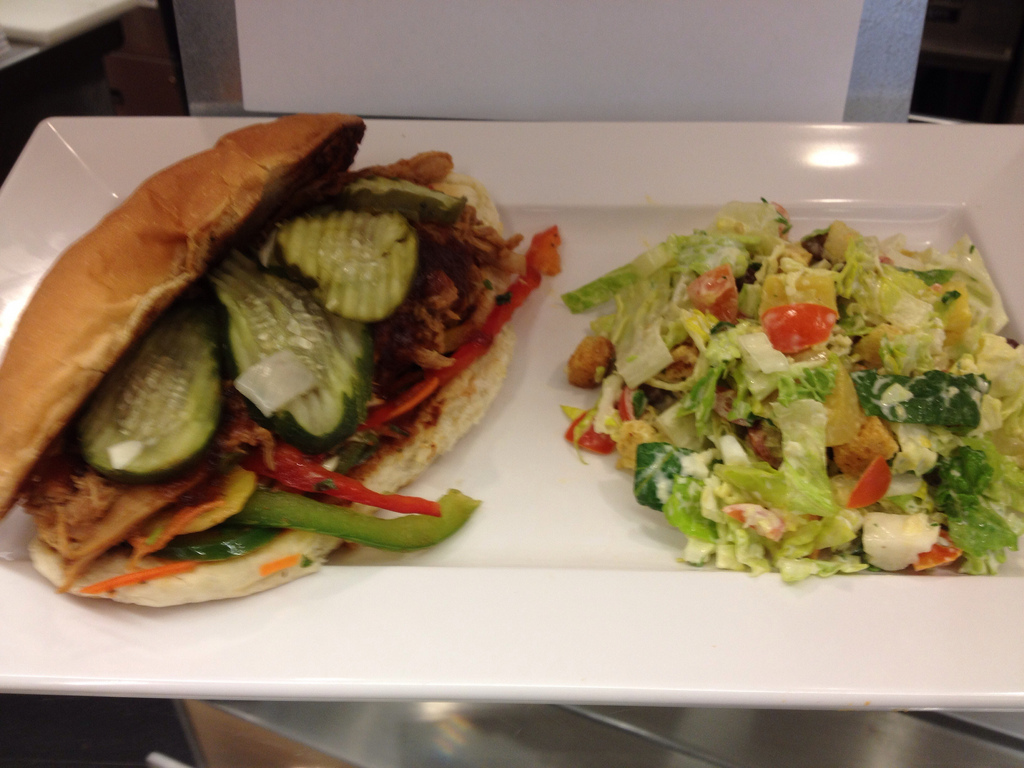chopped lettuce: (562, 221, 1014, 577)
slice of bread: (1, 100, 342, 479)
